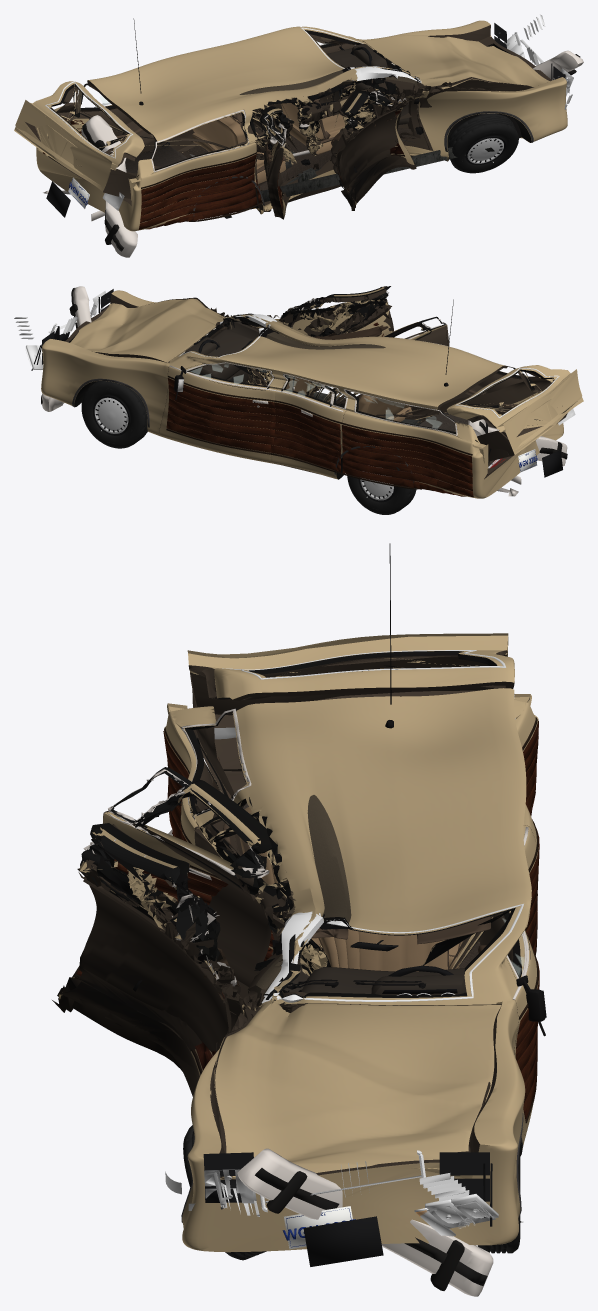
Rendered from wagon82_side_R_d3_lod1.glb.
The picture shows the model from 3 angles, top to bottom: view 1: azimuth 30°, elevation 25°; view 2: azimuth 150°, elevation 25°; view 3: azimuth 270°, elevation 25°; orthographic projection. The views are drawn at different scales.
Visible parts, largest first — view 1: Body, Trim, Tailgate, Hood, Door_FR, Interior, Wheel_FR_mesh, Ends, Bumper_R, Underbody, Door_RR, Glass (+6 smaller); view 2: Body, Trim, Hood, Trim_FL, Tailgate, Trim_RL, Interior, Door_FR, Wheel_FL_mesh, Door_FL, Ends, Door_RL (+9 smaller); view 3: Body, Hood, Door_FR, Tailgate, Ends, Interior, Door_RR, Bumper_F, Trim, Glass, Trim_FL, Trim_RR (+5 smaller).
Part boxes in pixels (x1,y1,x2,y2): Body: [36, 20, 567, 231]; Trim: [42, 18, 533, 229]; Tailgate: [14, 81, 144, 198]; Hood: [363, 35, 549, 91]; Door_FR: [332, 90, 416, 210]; Interior: [116, 41, 409, 186]; Wheel_FR_mesh: [449, 113, 518, 173]; Ends: [46, 14, 573, 217]; Bumper_R: [81, 115, 137, 257]; Underbody: [43, 114, 494, 218]; Door_RR: [261, 106, 294, 219]; Glass: [81, 27, 421, 171]; Body: [41, 290, 563, 498]; Trim: [72, 299, 533, 497]; Hood: [70, 297, 224, 362]; Trim_FL: [166, 362, 275, 454]; Tailgate: [447, 365, 583, 461]; Trim_RL: [270, 373, 347, 472]; Interior: [185, 322, 517, 432]; Door_FR: [267, 286, 394, 337]; Wheel_FL_mesh: [81, 381, 147, 448]; Door_FL: [159, 362, 275, 462]; Ends: [14, 289, 575, 477]; Door_RL: [270, 373, 346, 478]; Body: [164, 688, 538, 1252]; Hood: [214, 1000, 501, 1179]; Door_FR: [52, 823, 243, 1096]; Tailgate: [187, 633, 514, 771]; Ends: [165, 727, 498, 1266]; Interior: [212, 756, 490, 995]; Door_RR: [103, 780, 273, 1008]; Bumper_F: [237, 1148, 493, 1296]; Trim: [163, 543, 539, 1222]; Glass: [181, 708, 523, 1003]; Trim_FL: [478, 897, 546, 1123]; Trim_RR: [107, 769, 273, 961].
Bounding box in the file's own units: 5.35 × 2.01 × 2.22.
Materials: 35 (6 with a texture image).
